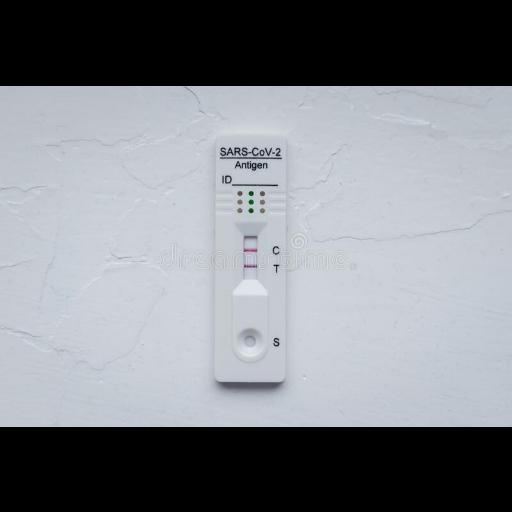Pos: (216, 136, 286, 380)
